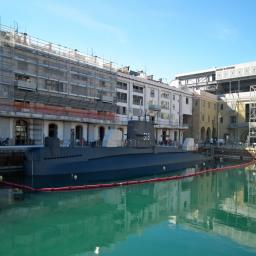submarine: (23, 124, 213, 180)
